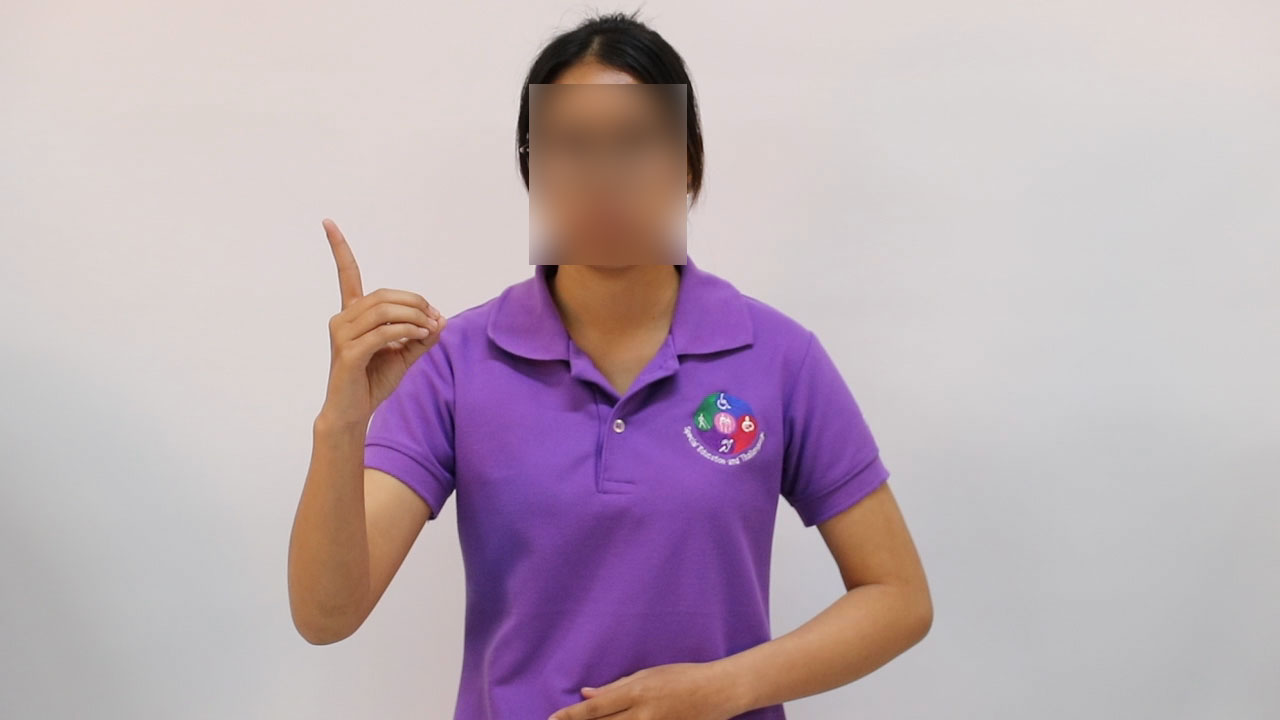dor: (306, 208, 455, 417)
